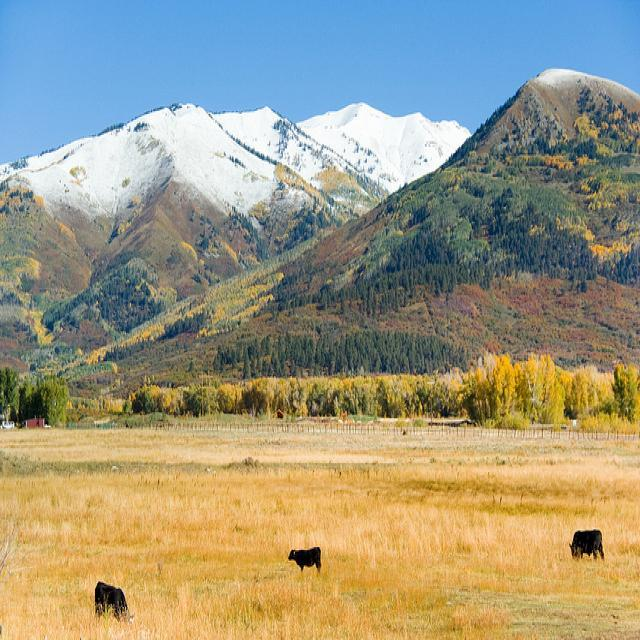cow: (94, 582, 127, 618), (567, 528, 603, 559), (286, 546, 320, 573)
